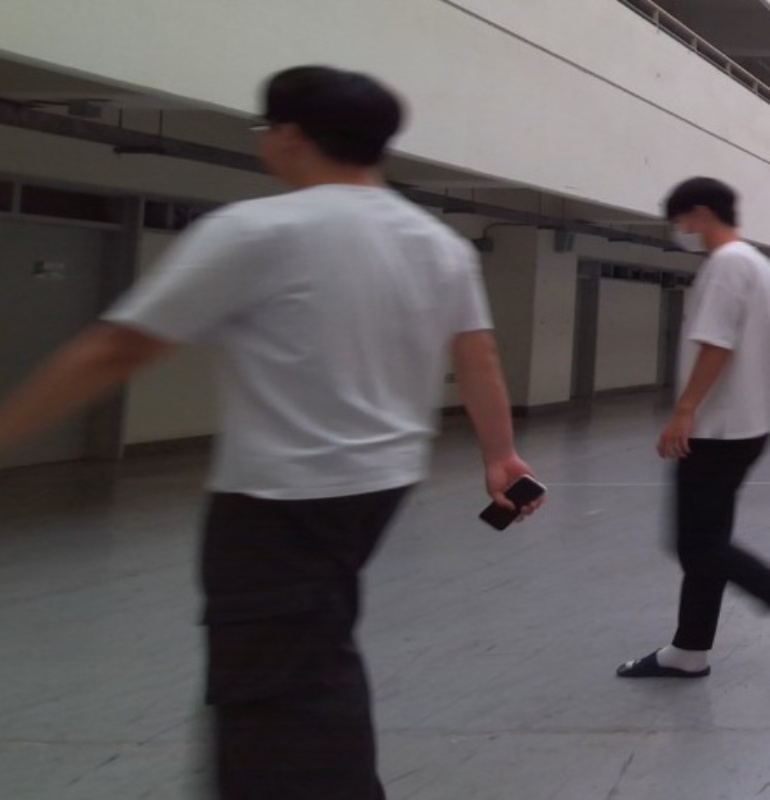person: (616, 170, 770, 682)
